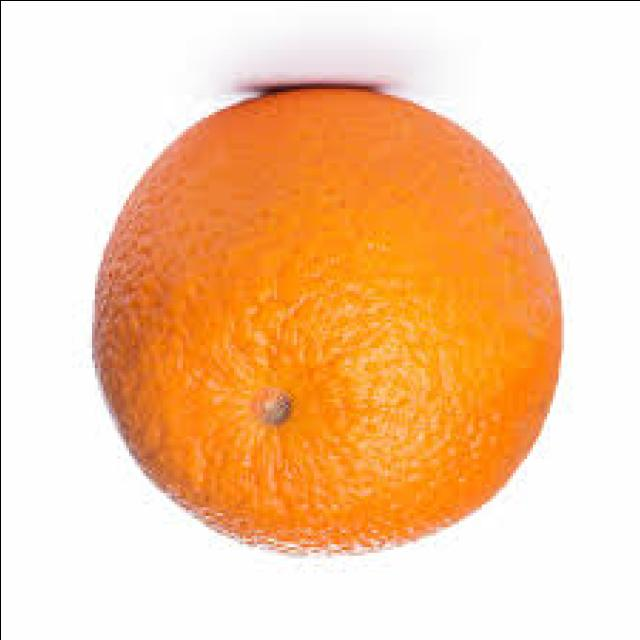orange: (56, 79, 572, 568)
